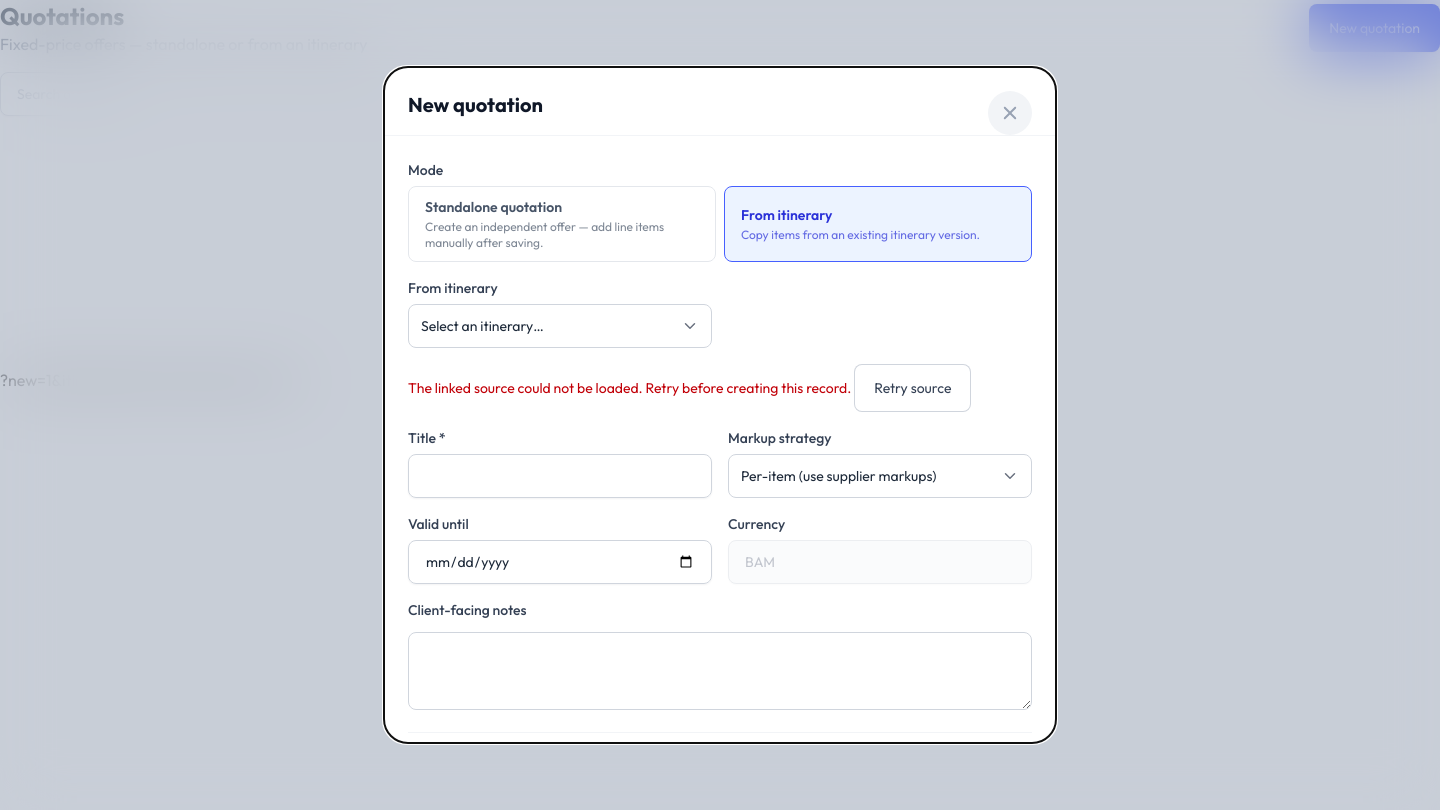
Test: quotation handoff › blocks invalid versions and retries the same source
Check: the message is shown, box x1=408 y1=364 x2=1032 y2=412
Click the button "Retry source" at [913, 388], box x1=854 y1=364 x2=971 y2=412
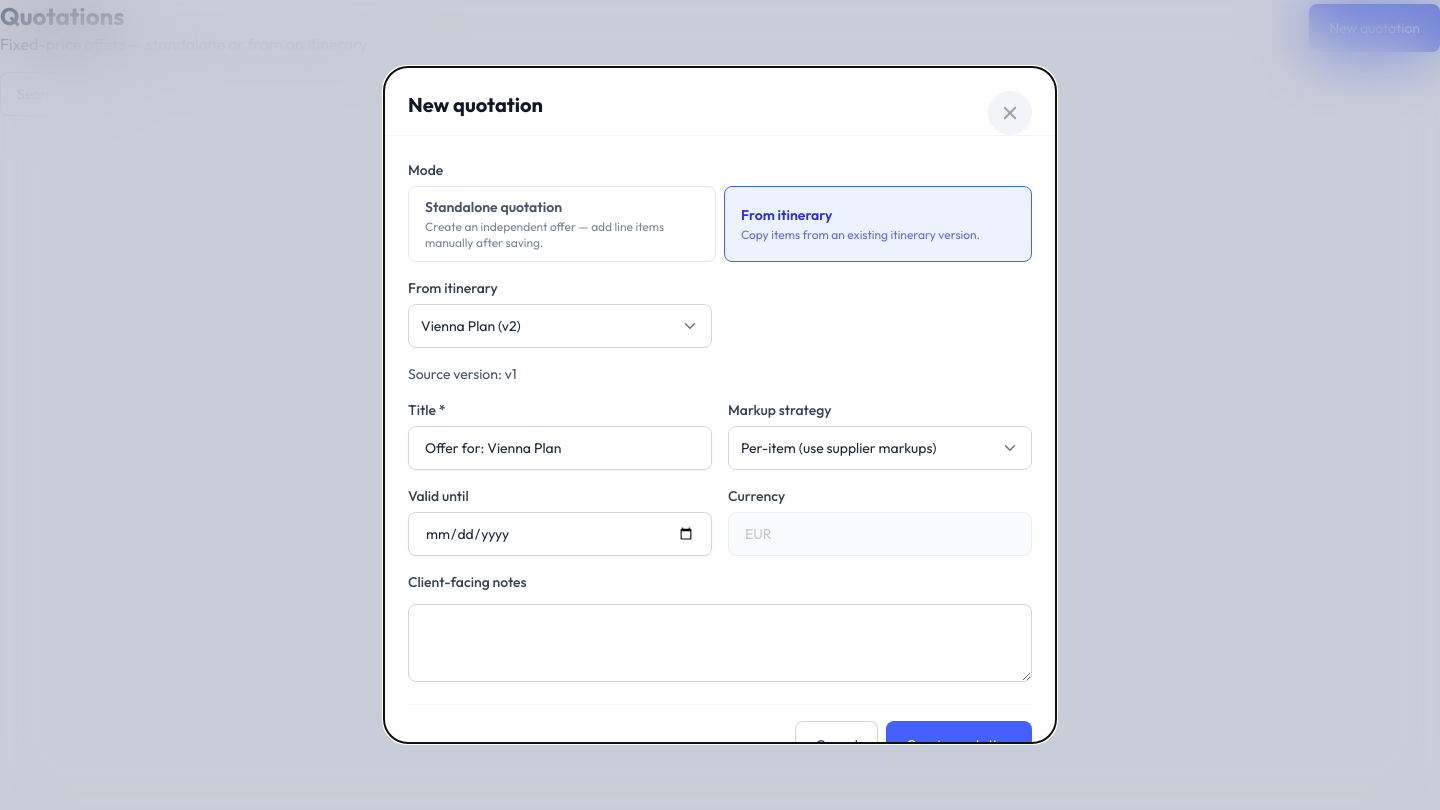
Check: the field showing "Offer for: Vienna Plan" below "Title *" is shown, box x1=408 y1=426 x2=712 y2=470
